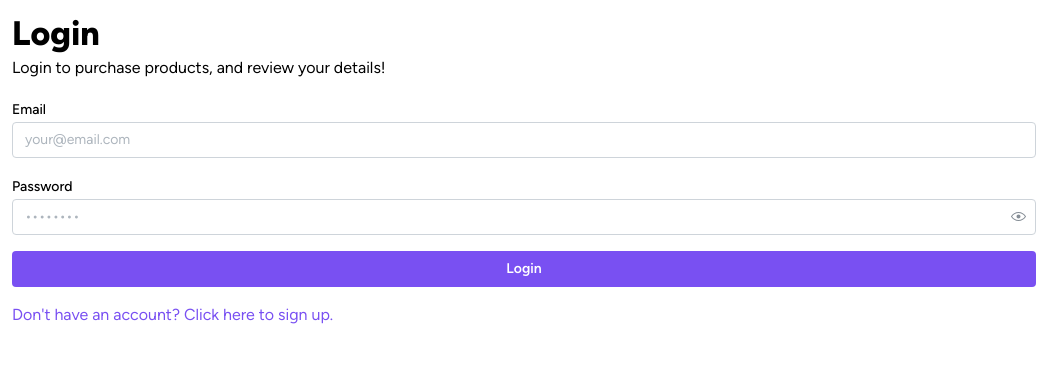
Test: Login Component › shows validation errors when required fields are empty
The width and height of the screenshot is (1048, 379).
Click the button with test id "login-button".
click(524, 269)  # box [12, 251, 1036, 287]
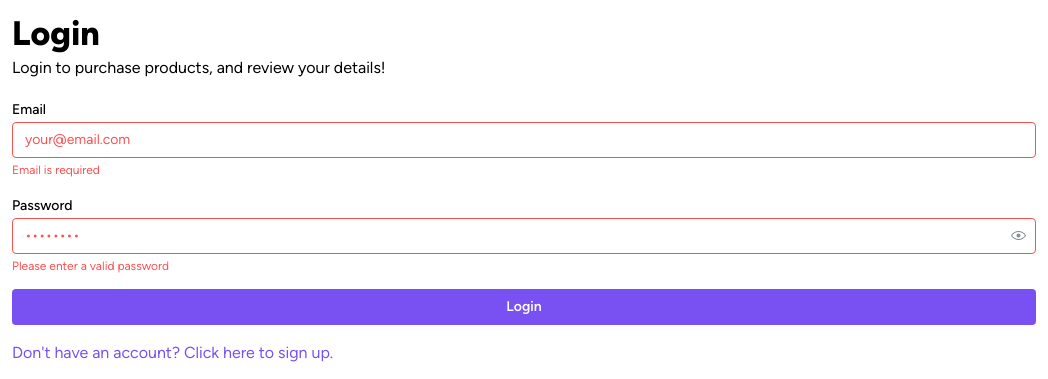
Now the text "Email is required" is shown, box [12, 163, 100, 177]
Now the text "Please enter a valid password" is shown, box [12, 259, 169, 273]
